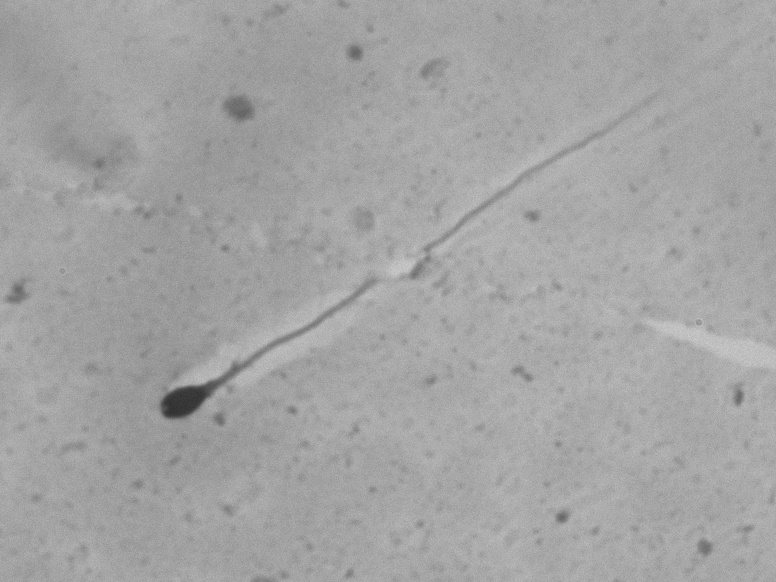Abnormal: (131, 235, 384, 444)
